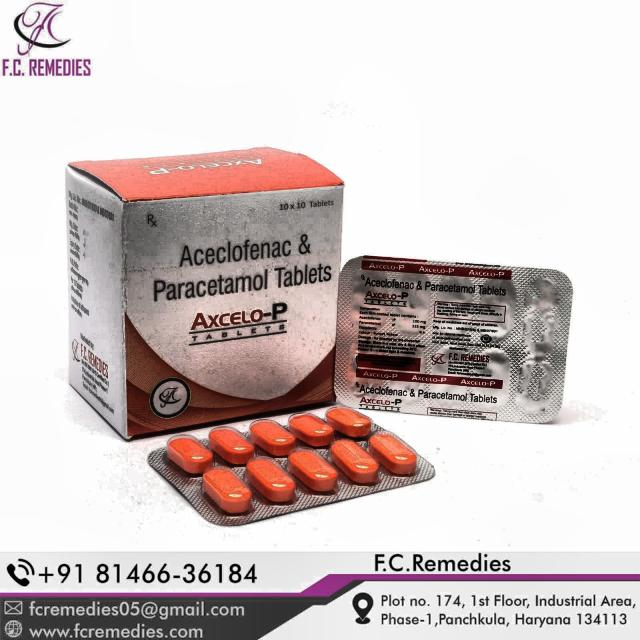Paracetamol: (131, 221, 330, 360)
